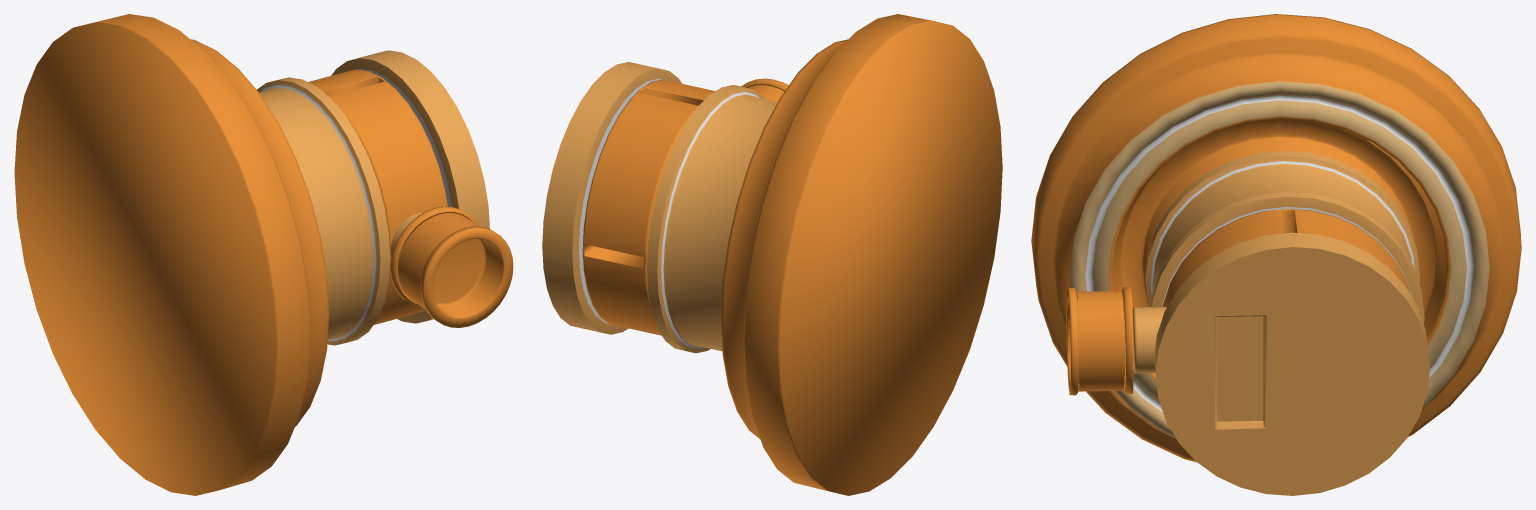
The model's file is 3D_Turret.fbx.
3 renders of one model, left to right at view 1: azimuth 30°, elevation 25°; view 2: azimuth 150°, elevation 25°; view 3: azimuth 270°, elevation 25°, orthographic.
Visible parts, largest first — view 1: Cylinder.007, Cylinder.002, Cylinder.008, Cylinder.001; view 2: Cylinder.007, Cylinder.002, Cylinder.001, Cylinder.008; view 3: Cylinder.007, Cylinder.002, Cylinder.008, Cylinder.001, Cylinder.006.
Boxes of the visible parts, x1,y1,x2,y2 form: Cylinder.007: [14, 14, 329, 495]; Cylinder.002: [257, 50, 489, 345]; Cylinder.008: [390, 206, 513, 327]; Cylinder.001: [308, 69, 447, 324]; Cylinder.007: [721, 14, 1002, 495]; Cylinder.002: [542, 62, 777, 353]; Cylinder.001: [582, 79, 715, 335]; Cylinder.008: [741, 78, 788, 102]; Cylinder.007: [1031, 14, 1521, 462]; Cylinder.002: [1145, 150, 1429, 495]; Cylinder.008: [1066, 287, 1133, 395]; Cylinder.001: [1163, 209, 1410, 307]; Cylinder.006: [1132, 307, 1166, 373].
Bounding box in the file's own units: 107 × 153 × 153.
